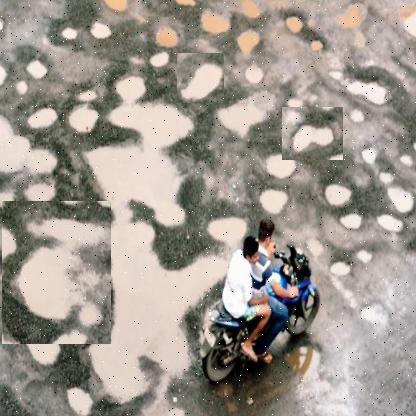pothole_water: (280, 107, 342, 161), (176, 53, 224, 104)
pothole_water_m: (0, 201, 110, 345)
